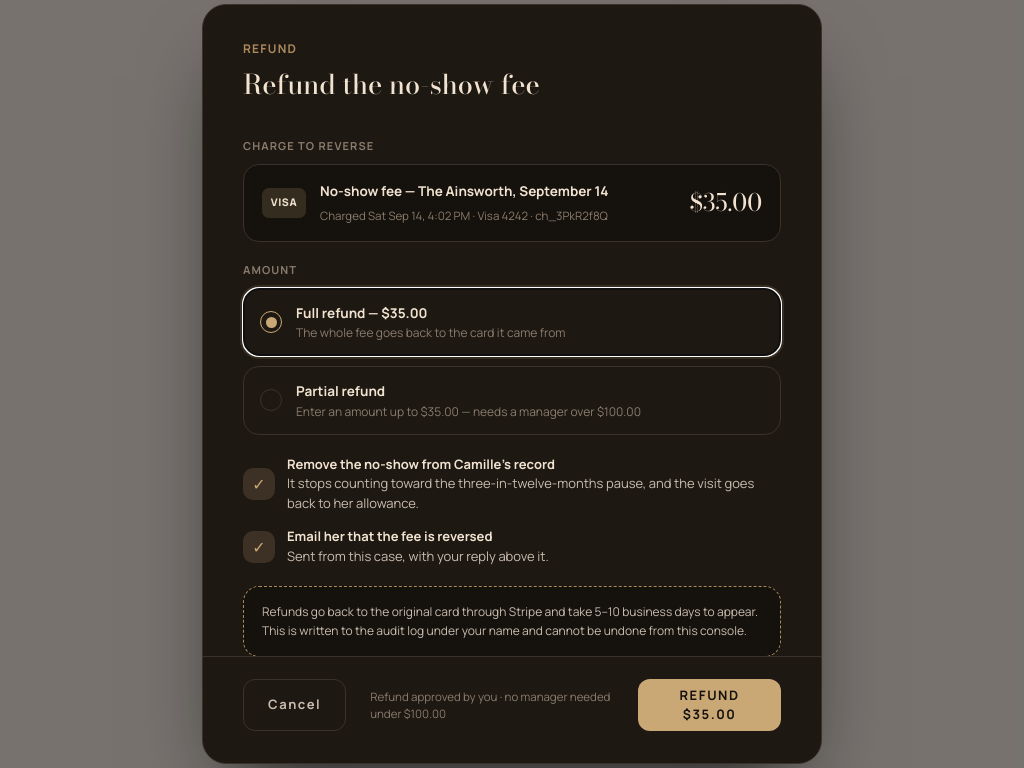
it: RefundModal › switches to a partial amount and updates the confirm button
Click the radio button labelled "Partial refund": (512, 400) [243, 366, 781, 435]
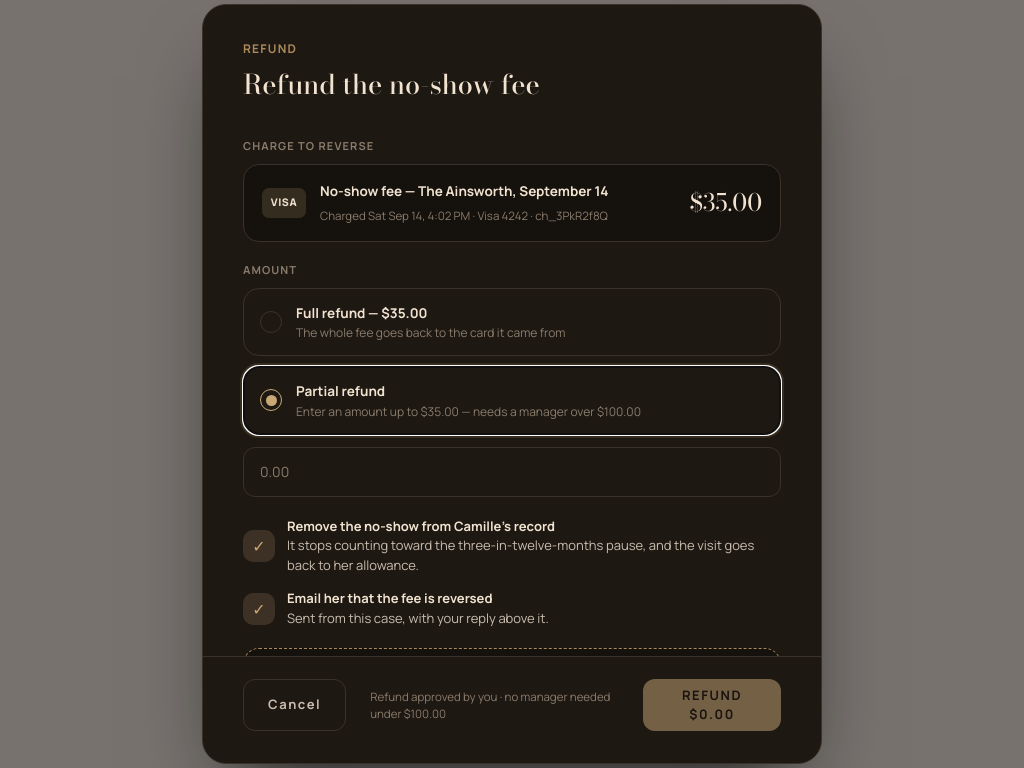
In the number field named "partial refund amount": (512, 472) [243, 446, 781, 496], type "20"
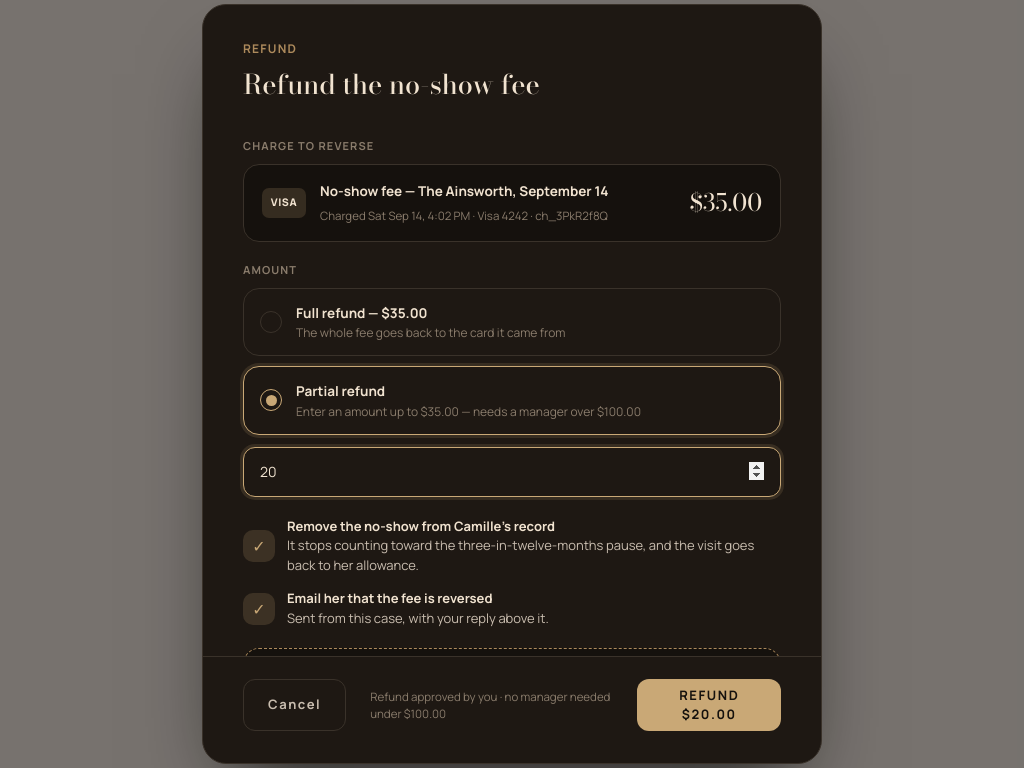
Expected: the button "Refund $20.00" is shown, [638, 679, 781, 731]
